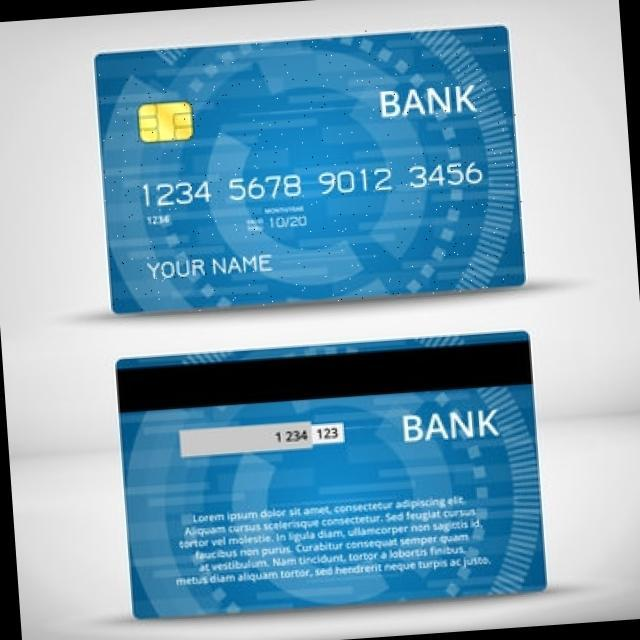payment_card: (92, 23, 527, 314), (114, 329, 549, 620)
